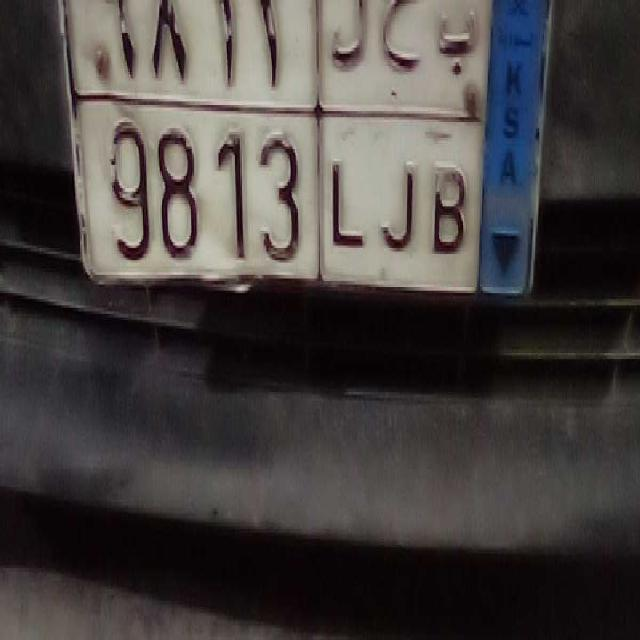license_plate: (77, 94, 481, 307)
